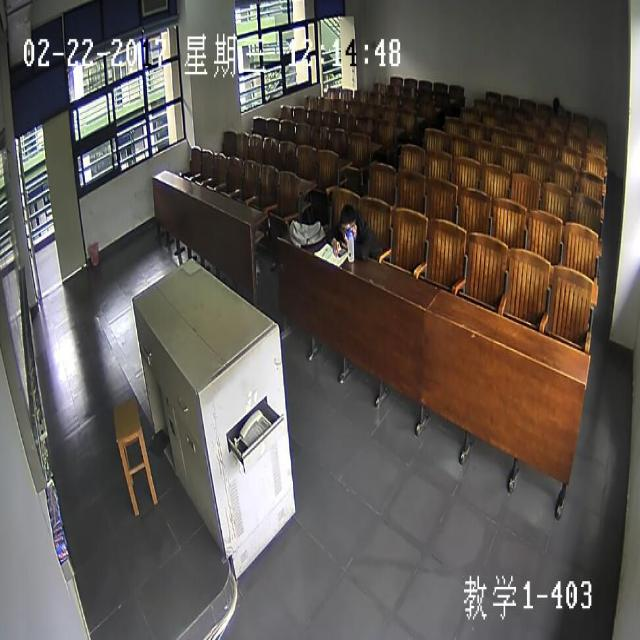person: (341, 203, 356, 239), (550, 93, 558, 107)
